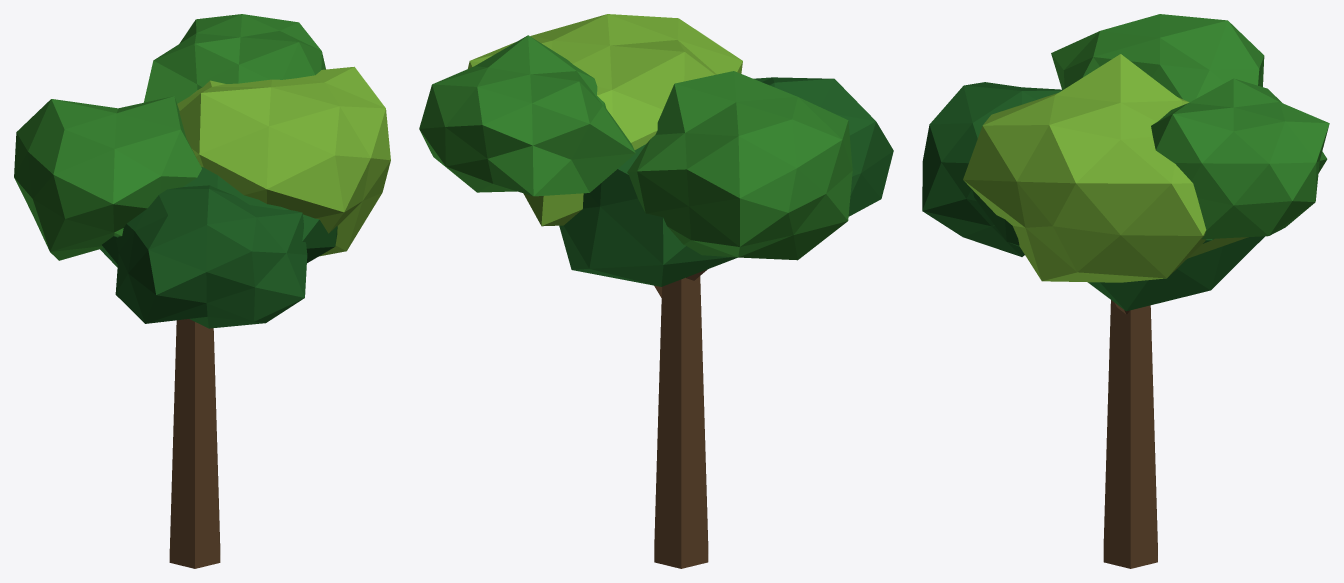
The model's file is tree_medium.glb.
The picture shows the model from 3 angles, left to right: view 1: azimuth 30°, elevation 25°; view 2: azimuth 150°, elevation 25°; view 3: azimuth 270°, elevation 25°; orthographic projection. The views are drawn at different scales.
Parts seen in each view (by area): view 1: leaf, leaf_light, leaf_dark, bark-col; view 2: leaf, leaf_dark, leaf_light, bark-col; view 3: leaf_light, leaf, leaf_dark, bark-col.
Part boxes in pixels (<box>): leaf: <box>14,14,325,260</box>; leaf_light: <box>177,66,390,256</box>; leaf_dark: <box>100,167,337,328</box>; bark-col: <box>169,319,220,568</box>; leaf: <box>419,35,852,260</box>; leaf_dark: <box>559,77,893,286</box>; leaf_light: <box>468,14,742,226</box>; bark-col: <box>654,269,708,568</box>; leaf_light: <box>963,54,1248,282</box>; leaf: <box>1051,14,1329,239</box>; leaf_dark: <box>922,82,1264,311</box>; bark-col: <box>1103,300,1157,568</box>.
Size of the model in its own units: 4.55 by 6.22 by 4.53.
